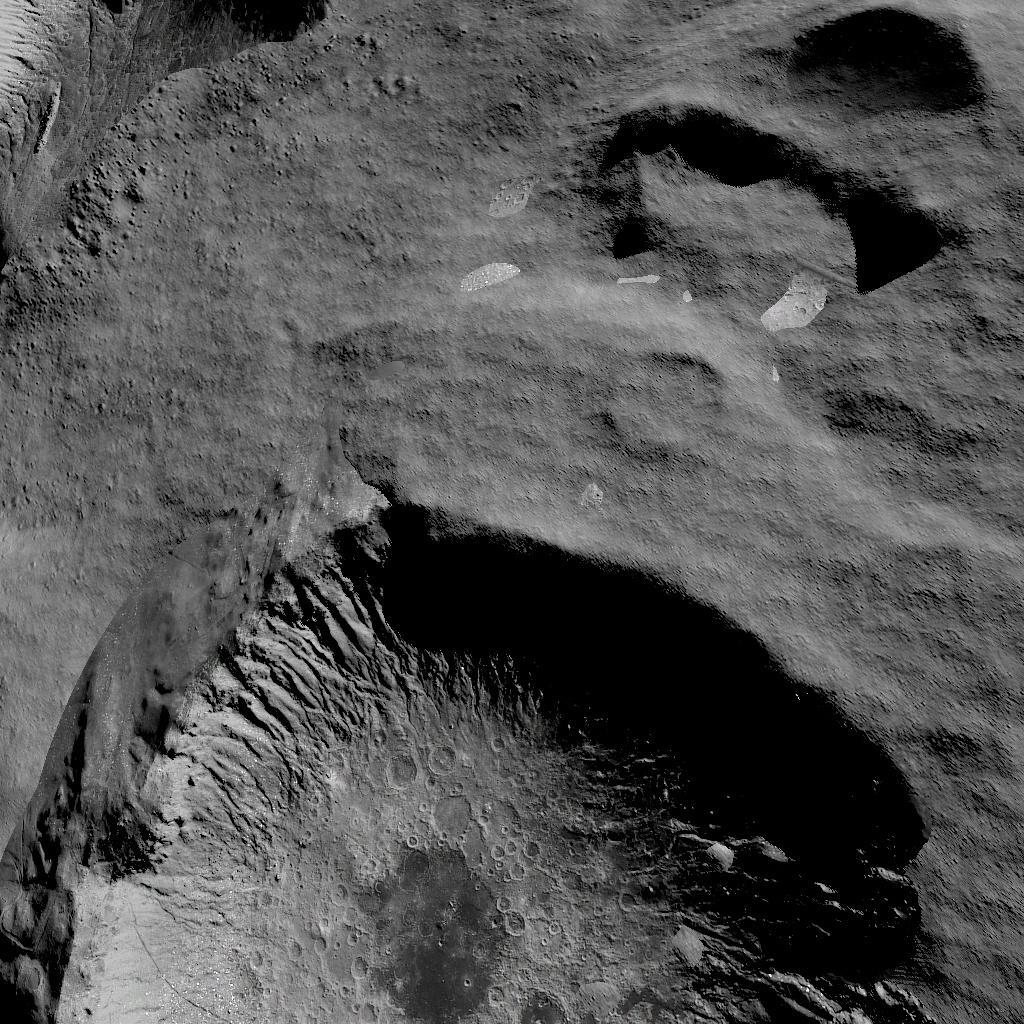Boulders: (1, 0, 334, 283)
Crater: (0, 458, 938, 1024), (592, 8, 984, 281), (604, 308, 740, 448)
Plan surface: (357, 0, 570, 431)
